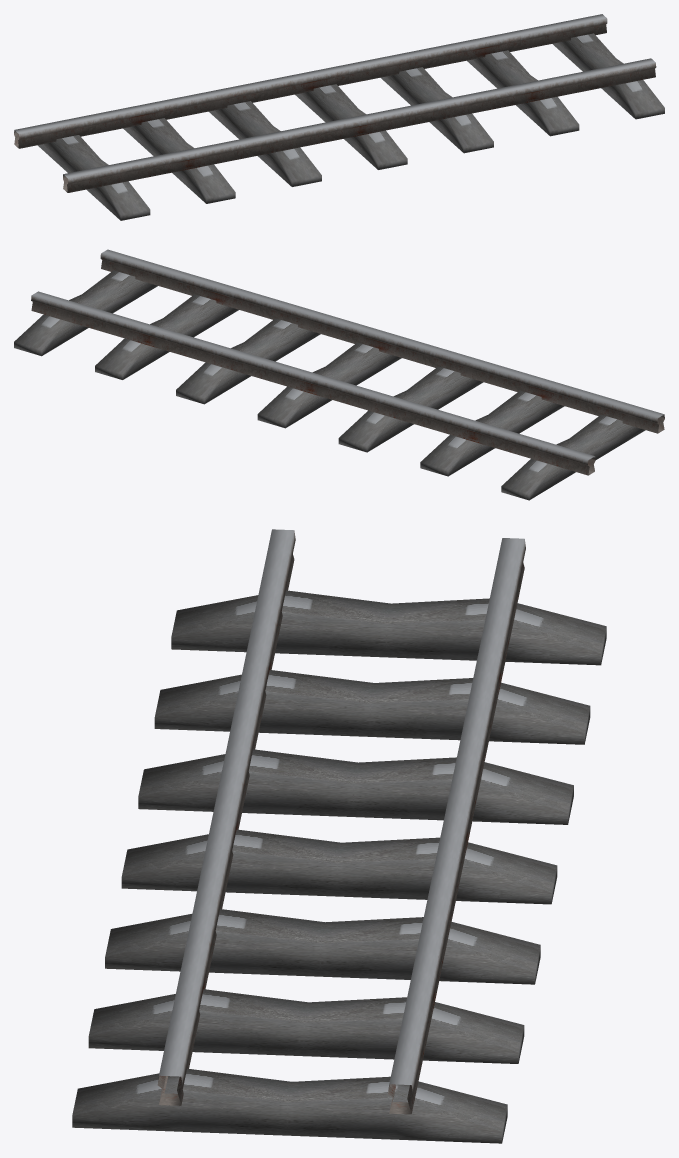
The model's file is TrainTracks.glb.
3 renders of one model, top to bottom at view 1: azimuth 30°, elevation 25°; view 2: azimuth 150°, elevation 25°; view 3: azimuth 270°, elevation 25°, orthographic. The views are drawn at different scales.
Visible parts, largest first — view 1: Rails__0.003, Rails__0.001, Rails__0.002; view 2: Rails__0.003, Rails__0.001, Rails__0.002; view 3: Rails__0.003, Rails__0.001, Rails__0.002.
Boxes of the visible parts, box(x1,y1,x2,y2) form: Rails__0.003: box(358, 14, 664, 147); Rails__0.001: box(14, 91, 320, 220); Rails__0.002: box(186, 53, 492, 185); Rails__0.003: box(14, 249, 338, 403); Rails__0.001: box(357, 355, 664, 500); Rails__0.002: box(193, 307, 501, 452); Rails__0.003: box(72, 848, 540, 1143); Rails__0.001: box(144, 529, 606, 821); Rails__0.002: box(111, 689, 573, 981).
Bounding box in the file's own units: 6.94 × 0.3744 × 2.82.
Materials: 3 (3 with a texture image).
